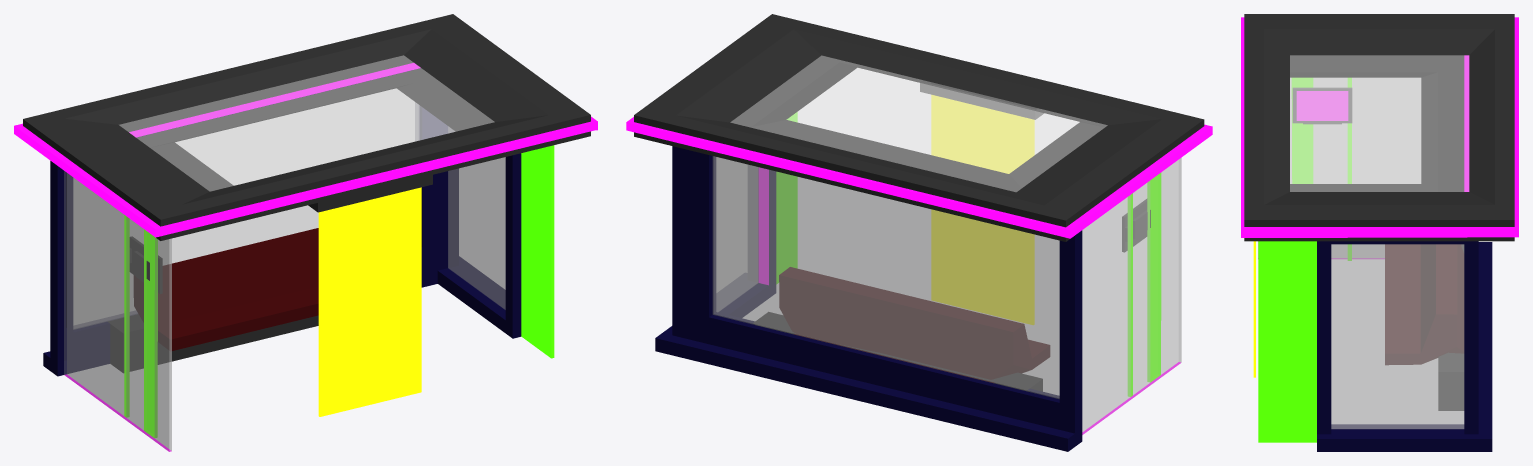
Rendered from 4bustsop.fbx.
The picture shows the model from 3 angles, left to right: view 1: azimuth 30°, elevation 25°; view 2: azimuth 150°, elevation 25°; view 3: azimuth 270°, elevation 25°; orthographic projection. The views are drawn at different scales.
Visible parts, largest first — view 1: bustsop[; view 2: bustsop[; view 3: bustsop[.
Boxes of the visible parts, left/top/right/bottom form: bustsop[: left=14, top=14, right=597, bottom=451; bustsop[: left=626, top=14, right=1212, bottom=451; bustsop[: left=1241, top=14, right=1518, bottom=451.
Size of the model in its own units: 4662 by 2428 by 2585.
